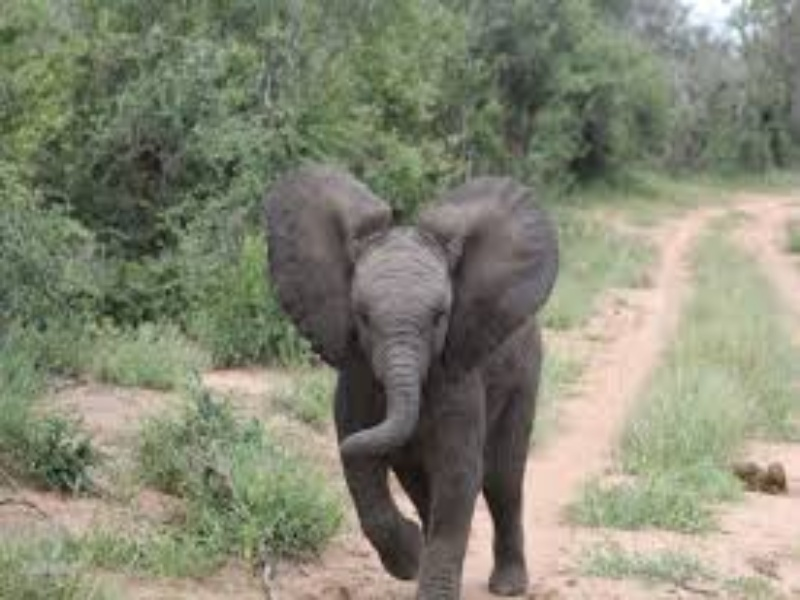elephant: (276, 139, 555, 597)
